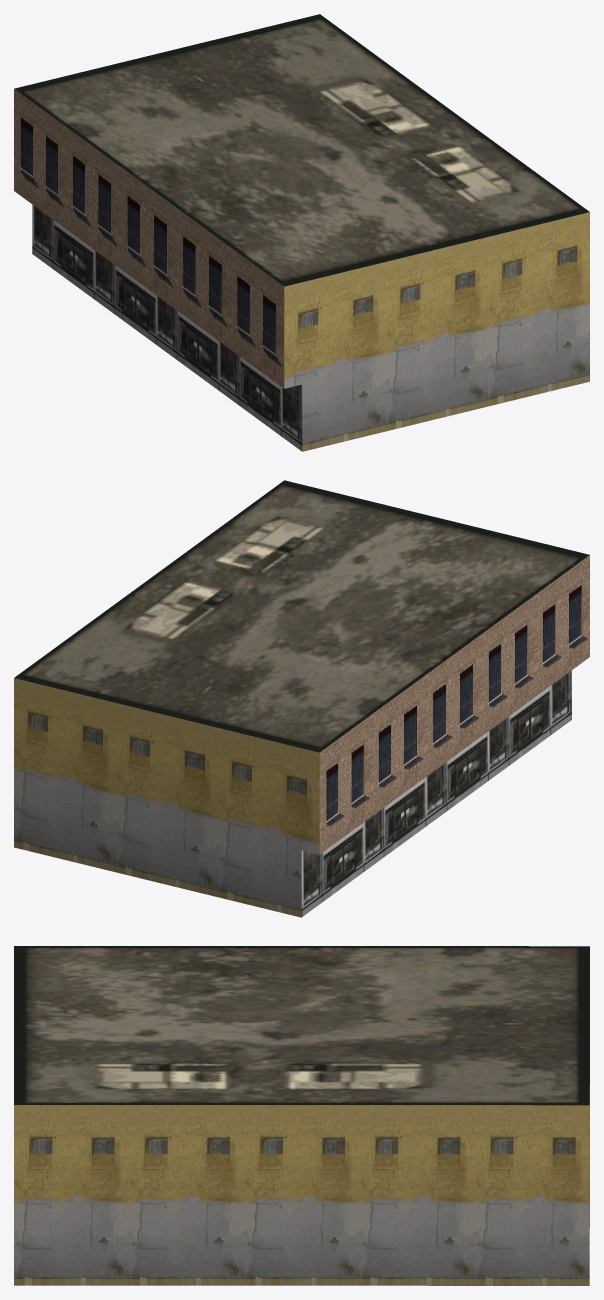
The model's file is vgelwbld16_lvs.obj.
The picture shows the model from 3 angles, top to bottom: view 1: azimuth 30°, elevation 25°; view 2: azimuth 150°, elevation 25°; view 3: azimuth 270°, elevation 25°; orthographic projection. The views are drawn at different scales.
Parts seen in each view (by area): view 1: vgelwbld16_lvs; view 2: vgelwbld16_lvs; view 3: vgelwbld16_lvs.
Boxes of the visible parts, x1,y1,x2,y2 form: vgelwbld16_lvs: (14, 14, 589, 451); vgelwbld16_lvs: (14, 480, 589, 917); vgelwbld16_lvs: (14, 946, 589, 1285).
Bounding box in the file's own units: 21.26 × 11.26 × 32.53.
4 materials, 4 textured.
